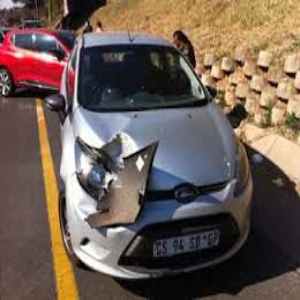bonnet: (73, 115, 209, 216)
